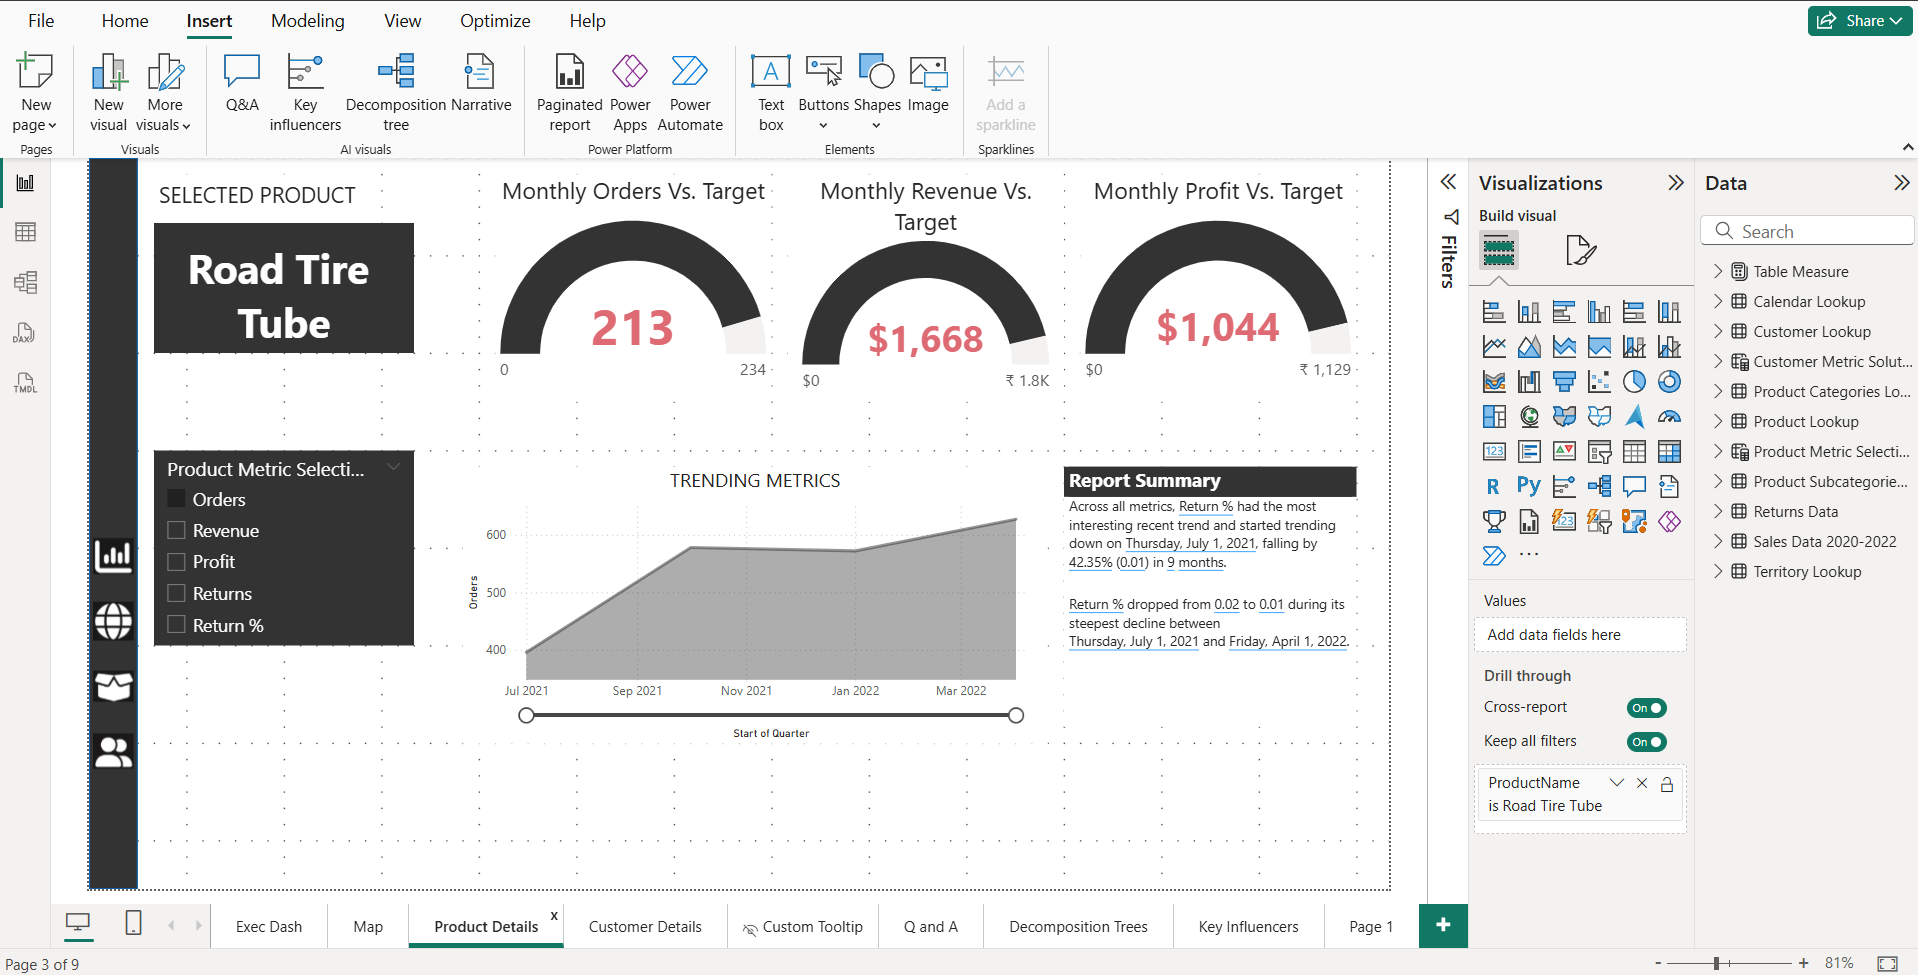

What the dashboard file says about the page in this screenshot:
{"tool":"powerbi","page":{"name":"Product Details","canvas":[1280,720],"ordinal":2},"visuals":[{"type":"gauge","title":"Monthly Orders Vs. Target","fields":{"Y":["Table Measure.Total Orders"],"MaxValue":["Table Measure.Order Target"]},"box":[336,48,288,272],"z":0},{"type":"card","fields":{"Values":["Min(Product Lookup.ProductName)"]},"box":[64,96,256,224],"z":0,"group":"g2"},{"type":"actionButton","box":[0,368,48,48],"z":0,"group":"g1"},{"type":"textbox","box":[64,48,256,48],"z":1000,"group":"g2"},{"type":"gauge","title":"Monthly Revenue Vs. Target","fields":{"Y":["Table Measure.Total Revenue"],"MaxValue":["Table Measure.Target Revenue"]},"box":[656,48,288,272],"z":1000},{"type":"actionButton","box":[0,432,48,48],"z":1000,"group":"g1"},{"type":"gauge","title":"Monthly Profit Vs. Target","fields":{"Y":["Table Measure.Total Profit"],"MaxValue":["Table Measure.Profit Target"]},"box":[976,48,288,272],"z":2000},{"type":"actionButton","box":[0,496,48,48],"z":2000,"group":"g1"},{"type":"actionButton","box":[0,0,100,40],"z":3000},{"type":"actionButton","box":[0,560,48,48],"z":3000,"group":"g1"},{"type":"shape","title":"Left Nav Bar","box":[0,0,48,720],"z":4000},{"type":"group","id":"g1","title":"Custom Navigation Buttons","box":[0,368,48,240],"z":5000},{"type":"slicer","fields":{"Values":["Product Metric Selection.Product Metric Selection"]},"box":[64,368,256,304],"z":6000},{"type":"areaChart","title":"TRENDING METRICS","fields":{"Y":["Table Measure.Total Orders"],"Category":["Calendar Lookup.Start of Year","Calendar Lookup.Start of Quarter","Calendar Lookup.Start of Month","Calendar Lookup.Start of Week"]},"box":[336,368,608,304],"z":7000},{"type":"textbox","title":"Report Summary","box":[960,368,304,304],"z":8000},{"type":"group","id":"g2","title":"Left_Top_Group","box":[64,48,256,256],"z":9000}]}

Visuals, with their boxes on the page's 1280x720 design canvas (x1, y1, x2, y2). These are canvas units, not pixel positions in the 1918x975 screenshot, which may show the page scaled, cropped or inside an application window:
"Monthly Orders Vs. Target" gauge: region(336, 48, 624, 320)
card - Min(Product Lookup.ProductName): region(64, 96, 320, 320)
actionButton: region(0, 368, 48, 416)
textbox: region(64, 48, 320, 96)
"Monthly Revenue Vs. Target" gauge: region(656, 48, 944, 320)
actionButton: region(0, 432, 48, 480)
"Monthly Profit Vs. Target" gauge: region(976, 48, 1264, 320)
actionButton: region(0, 496, 48, 544)
actionButton: region(0, 0, 100, 40)
actionButton: region(0, 560, 48, 608)
"Left Nav Bar" shape: region(0, 0, 48, 720)
"Custom Navigation Buttons" group: region(0, 368, 48, 608)
slicer - Product Metric Selection.Product Metric Selection: region(64, 368, 320, 672)
"TRENDING METRICS" areaChart: region(336, 368, 944, 672)
"Report Summary" textbox: region(960, 368, 1264, 672)
"Left_Top_Group" group: region(64, 48, 320, 304)
